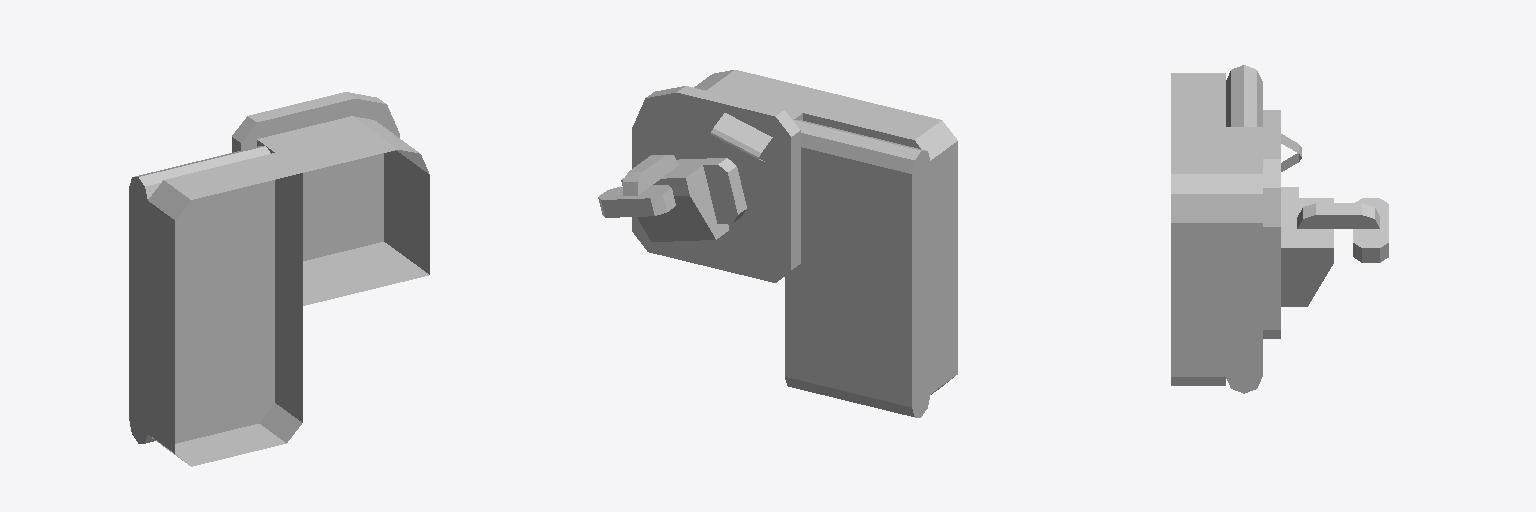
File: cash-register.obj
The picture shows the model from 3 angles: view 1: azimuth 30°, elevation 25°; view 2: azimuth 150°, elevation 25°; view 3: azimuth 270°, elevation 25°; orthographic projection.
Parts seen in each view (by area): view 1: cash-register.003; view 2: cash-register.003; view 3: cash-register.003.
Part boxes in pixels (left/top/right/bottom): cash-register.003: left=129, top=92, right=429, bottom=466; cash-register.003: left=598, top=70, right=957, bottom=417; cash-register.003: left=1171, top=65, right=1388, bottom=393.
Bounding box in the file's own units: 0.85 × 0.85 × 0.5949.